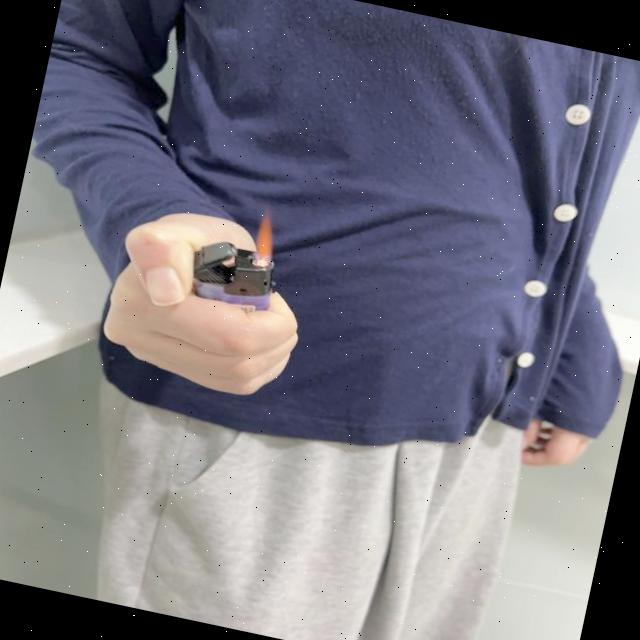fire: (250, 215, 282, 268)
